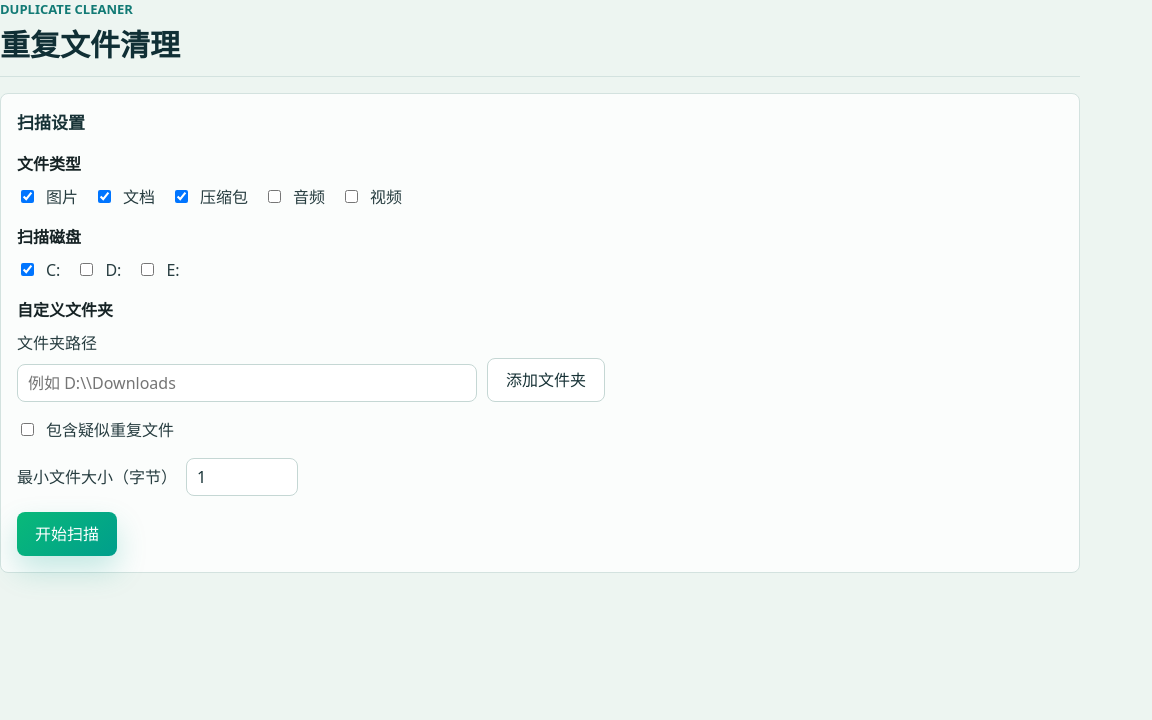
Scenario: DuplicateCleanerPage › applies matching scan finished events received before start resolves
Click the button "开始扫描". click: [67, 534]
box: [17, 512, 117, 556]
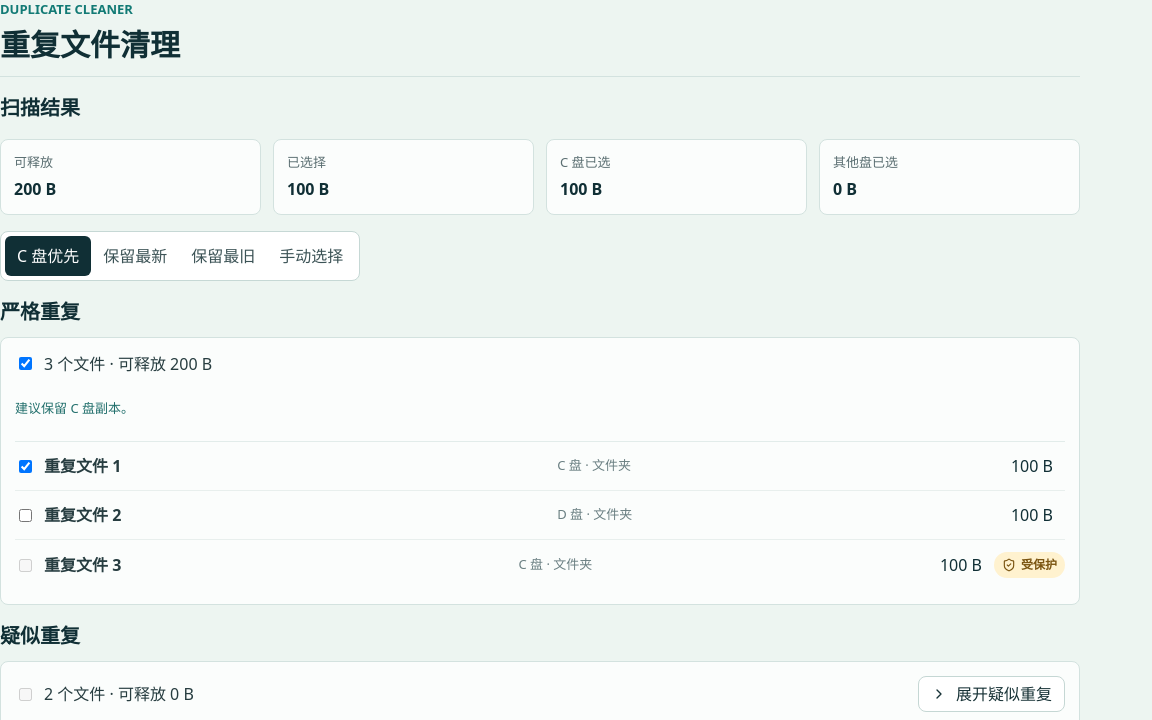
Expected: the heading "扫描结果" is shown, [0, 94, 80, 121]
